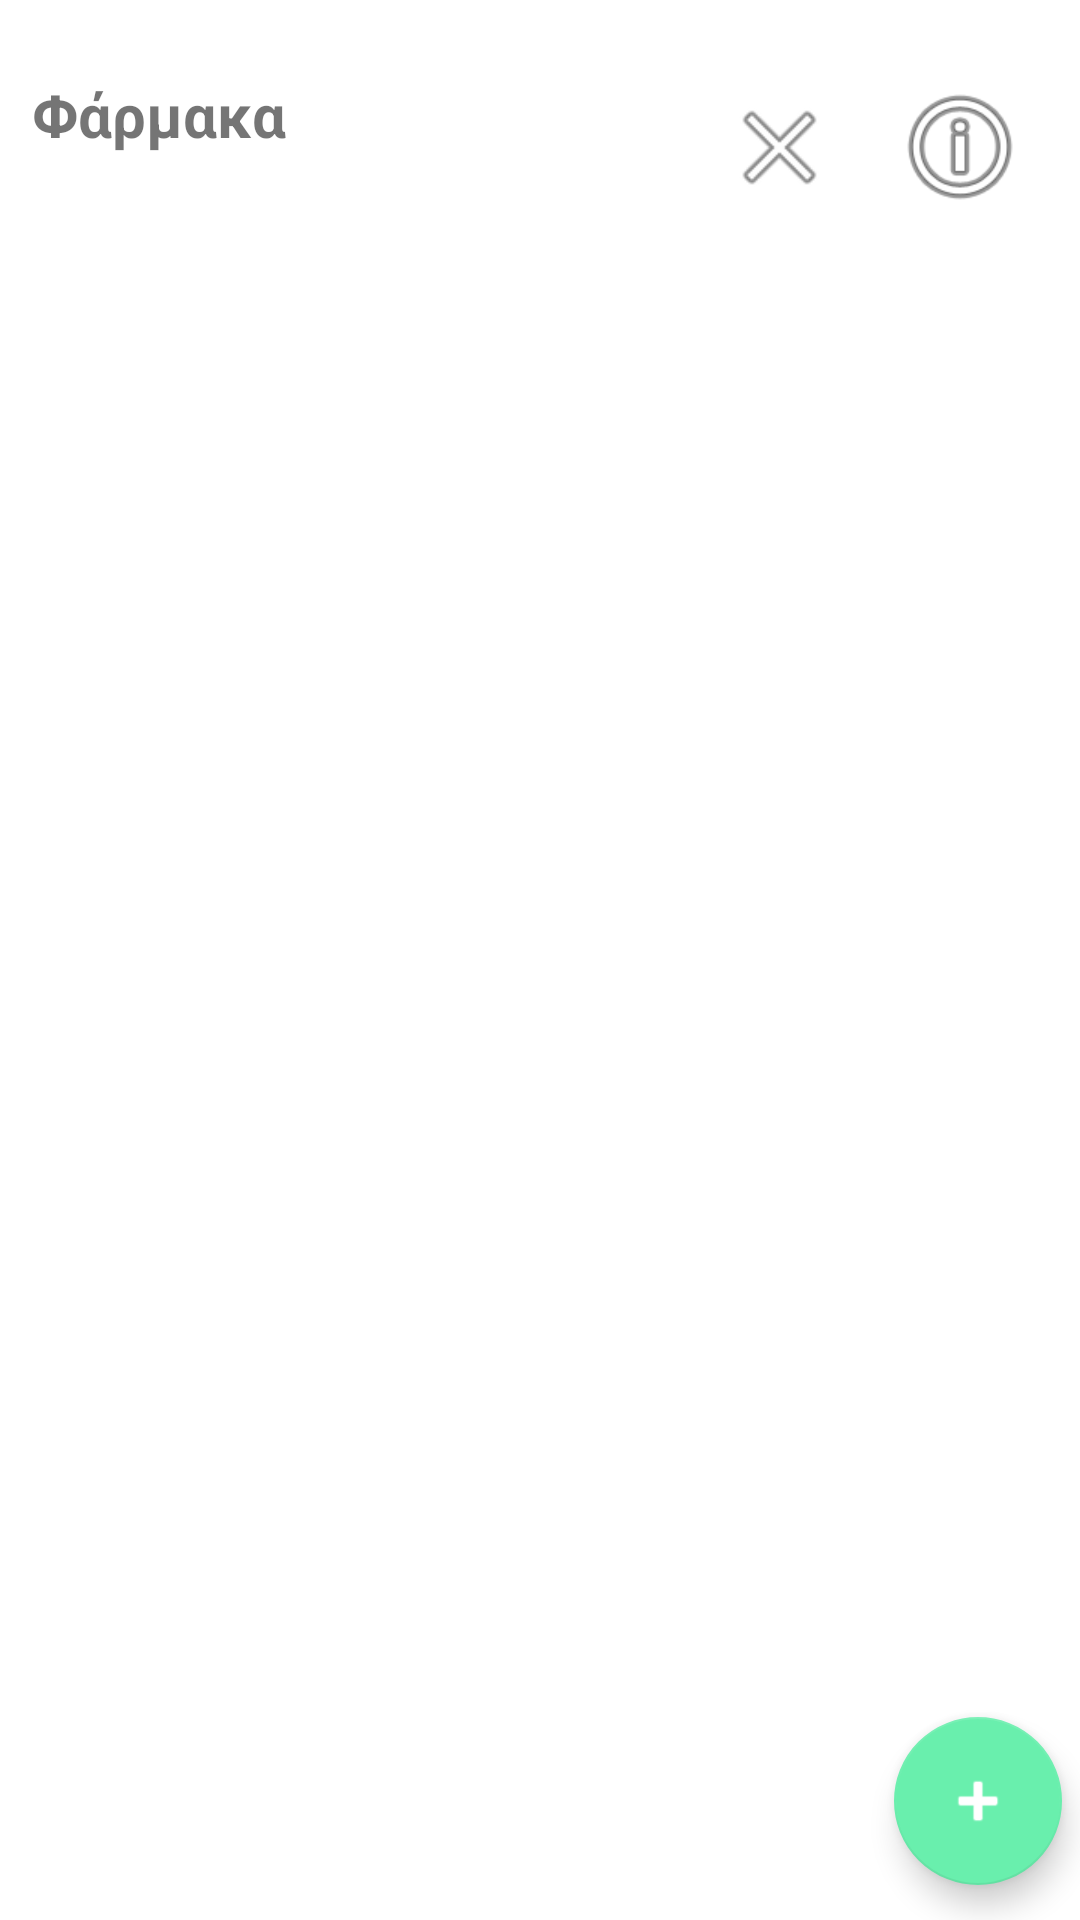

Point at icon controls on the screen. Image size 1080×1920, points as (x,y).
delete items: (779,147)
info: (960,147)
just a plus button to add referrals: (978,1801)
